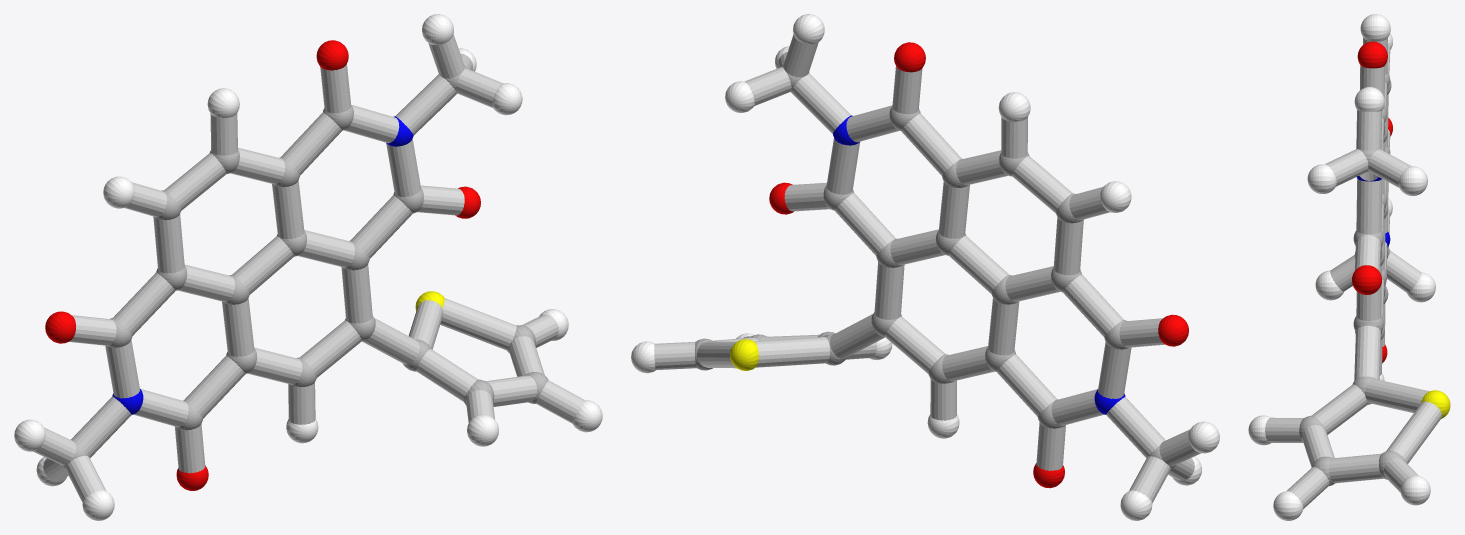
The model's file is Dimethyl_Naphthalene_Dicarboximide_Phi_20_Theta_110_Thiophene.glb.
3 renders of one model, left to right at view 1: azimuth 30°, elevation 25°; view 2: azimuth 150°, elevation 25°; view 3: azimuth 270°, elevation 25°, orthographic. The views are drawn at different scales.
Visible parts, largest first — view 1: grp14119, grp7241, grp1, grp12309, grp11585; view 2: grp14119, grp7241, grp1, grp12309, grp13757, grp11585; view 3: grp14119, grp7241, grp1, grp12309, grp13757.
Part boxes in pixels (<box>): grp14119: <box>33,34,584,502</box>; grp7241: <box>14,14,602,520</box>; grp1: <box>60,65,548,469</box>; grp12309: <box>45,40,480,490</box>; grp11585: <box>112,116,413,414</box>; grp14119: <box>654,34,1200,503</box>; grp7241: <box>631,14,1219,520</box>; grp1: <box>694,64,1175,470</box>; grp12309: <box>769,42,1188,488</box>; grp13757: <box>730,339,758,370</box>; grp11585: <box>833,115,1125,414</box>; grp14119: <box>1265,37,1442,509</box>; grp7241: <box>1248,14,1435,520</box>; grp1: <box>1299,72,1405,486</box>; grp12309: <box>1352,41,1392,362</box>; grp13757: <box>1421,390,1450,418</box>.
Size of the model in its own units: 12.23 by 8.52 by 4.01.
